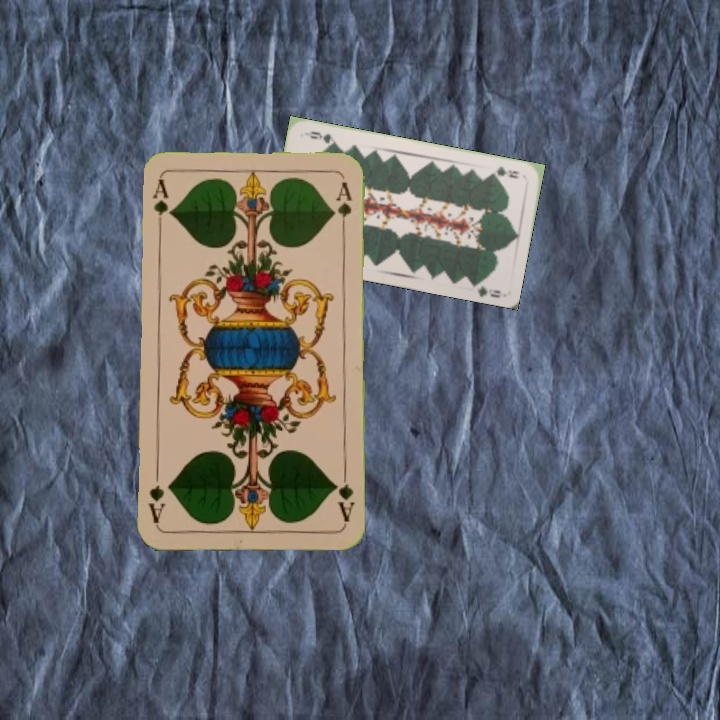G9: (486, 162, 522, 181)
GA: (329, 466, 356, 525), (149, 175, 171, 234)
